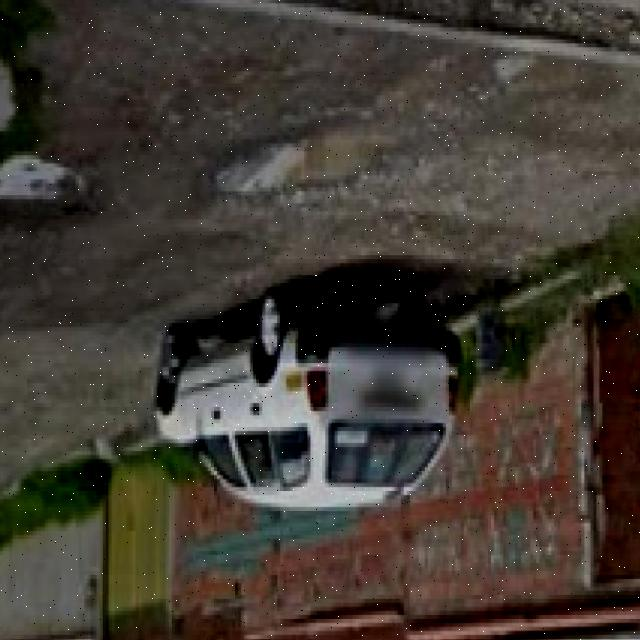car: (153, 295, 460, 517)
